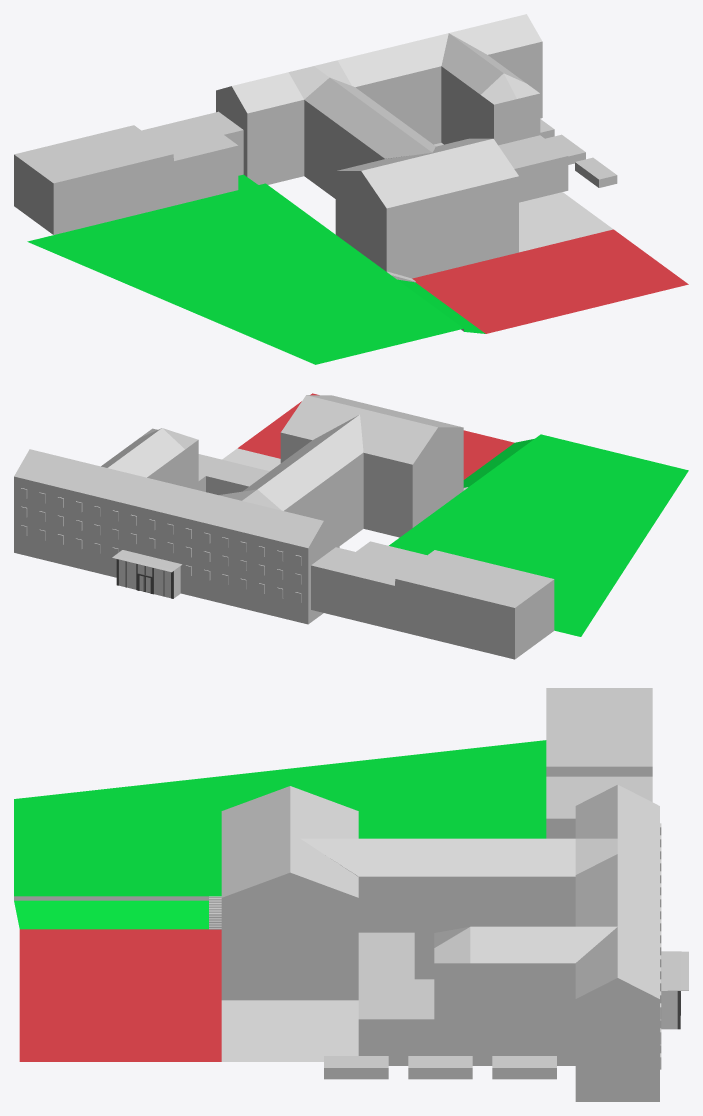
File: astgasse.glb
3 renders of one model, top to bottom at view 1: azimuth 30°, elevation 25°; view 2: azimuth 150°, elevation 25°; view 3: azimuth 270°, elevation 25°, orthographic. The views are drawn at different scales.
Visible parts, largest first — view 1: außen, TA_FS, TG_TB, haupt, altes gebäude, phs, aq_ws, Train; view 2: außen, haupt, TG_TB, TA_FS, altes gebäude, phs, CTRL_Hole, aq_ws, glaseingang, roof_glaseingang; view 3: außen, TA_FS, haupt, altes gebäude, phs, TG_TB, aq_ws, Train, roof_glaseingang, glaseingang.
Part boxes in pixels (bbox=[...]): außen: bbox=[27, 174, 688, 364]; TA_FS: bbox=[335, 138, 518, 278]; TG_TB: bbox=[14, 111, 243, 234]; haupt: bbox=[216, 14, 542, 184]; altes gebäude: bbox=[304, 77, 435, 198]; phs: bbox=[441, 33, 540, 145]; aq_ws: bbox=[498, 135, 568, 202]; Train: bbox=[540, 119, 617, 187]; außen: bbox=[222, 393, 688, 636]; haupt: bbox=[14, 449, 339, 624]; TG_TB: bbox=[311, 541, 554, 659]; TA_FS: bbox=[280, 395, 463, 537]; altes gebäude: bbox=[243, 414, 363, 545]; phs: bbox=[101, 428, 198, 490]; CTRL_Hole: bbox=[21, 488, 301, 602]; aq_ws: bbox=[198, 454, 269, 494]; glaseingang: bbox=[116, 559, 180, 598]; roof_glaseingang: bbox=[112, 550, 182, 572]; außen: bbox=[14, 740, 546, 1061]; TA_FS: bbox=[221, 786, 358, 1000]; haupt: bbox=[575, 784, 659, 1101]; altes gebäude: bbox=[300, 838, 575, 979]; phs: bbox=[434, 926, 617, 1065]; TG_TB: bbox=[546, 688, 652, 838]; aq_ws: bbox=[358, 932, 434, 1065]; Train: bbox=[324, 1056, 556, 1079]; roof_glaseingang: bbox=[661, 951, 688, 990]; glaseingang: bbox=[661, 991, 680, 1029].
Size of the model in its own units: 129 by 22.32 by 107.
